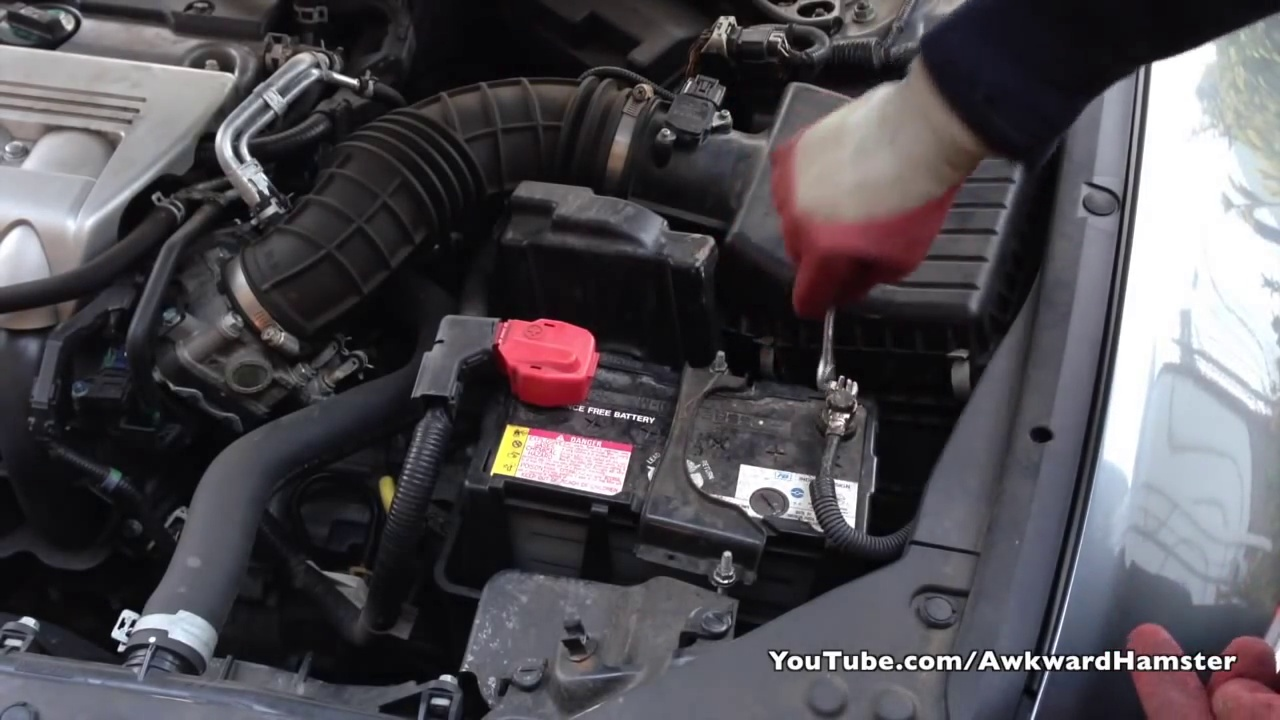battery: (465, 309, 882, 552)
neg_connected: (794, 363, 878, 473)
pos_connected: (441, 290, 626, 412)
